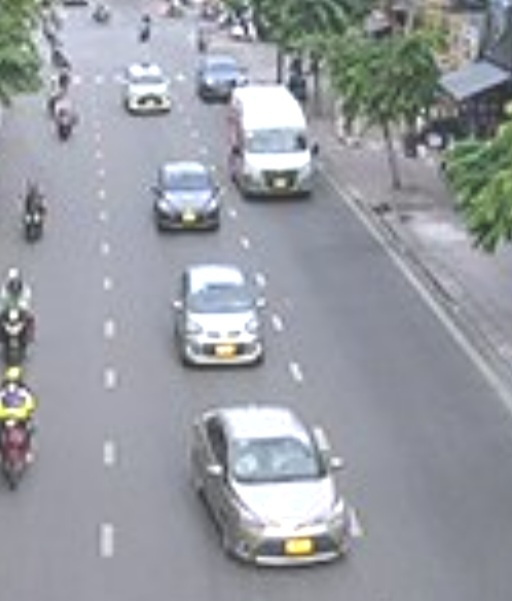car: (190, 404, 353, 569), (230, 86, 314, 197), (178, 265, 264, 368), (157, 163, 219, 231), (124, 62, 169, 113), (199, 55, 244, 101)
